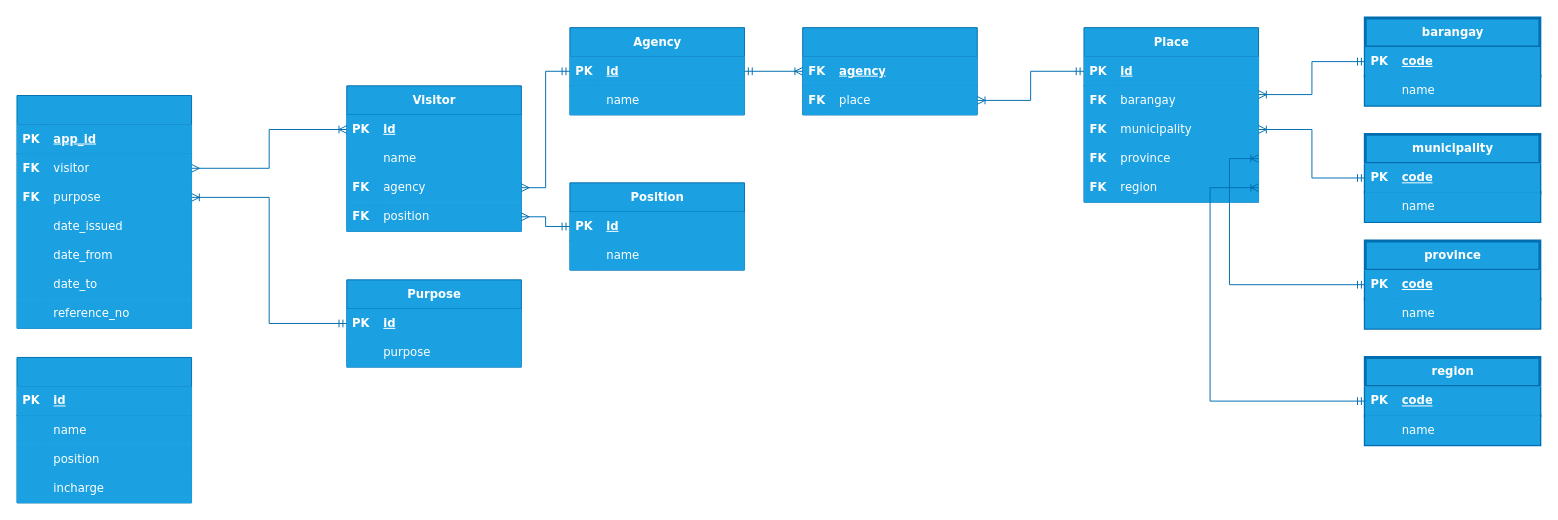
Some shapes in this 1558 by 520 pixel diagram are drawn without their labels. The box of each missing label's shape, as (x1, y1, x2, y2) in pixels:
Appearance: (16, 95, 192, 328)
DeptHead: (16, 356, 192, 503)
Place_Agency: (802, 27, 977, 115)
